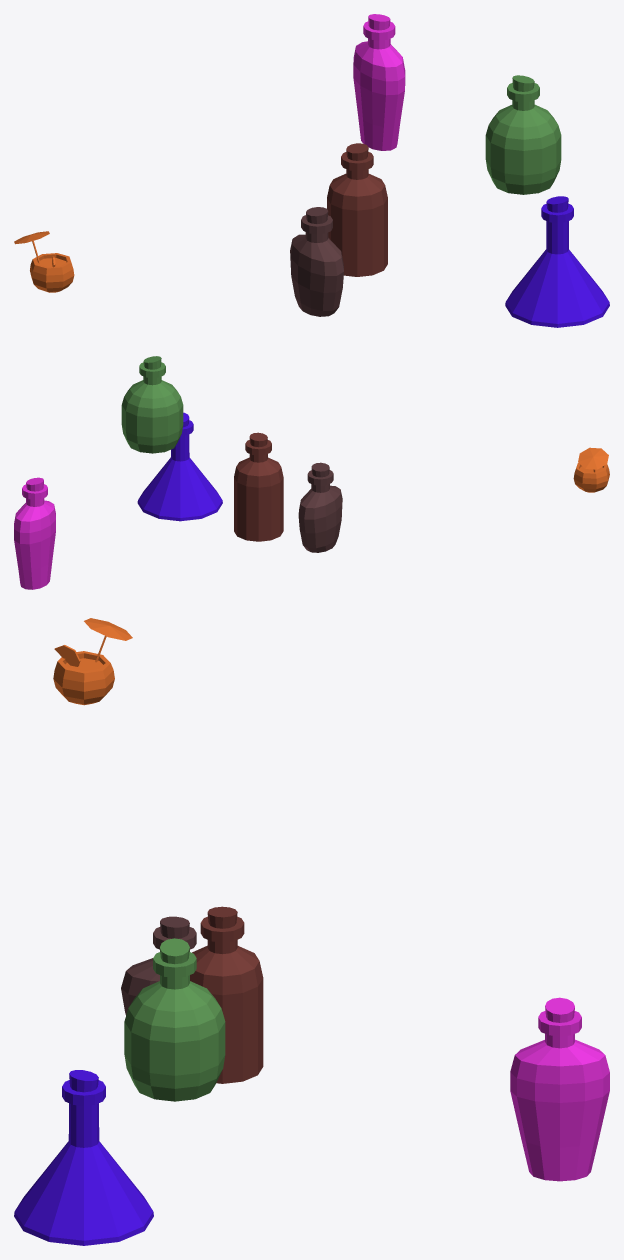
Rendered from Bottles.fbx.
3 views of the same model, one above another, from view 1: azimuth 30°, elevation 25°; view 2: azimuth 150°, elevation 25°; view 3: azimuth 270°, elevation 25° (orthographic). The views are drawn at different scales.
Parts seen in each view (by area): view 1: lab1, small1, medium1, weird1, weird2, coconut; view 2: medium1, small1, lab1, weird1, weird2, coconut; view 3: weird1, lab1, small1, medium1, coconut, weird2.
Boxes of the visible parts, bbox=[...] form: lab1: bbox=[505, 196, 609, 327]; small1: bbox=[485, 75, 561, 194]; medium1: bbox=[327, 143, 387, 276]; weird1: bbox=[353, 14, 405, 150]; weird2: bbox=[290, 207, 343, 316]; coconut: bbox=[14, 231, 74, 292]; medium1: bbox=[234, 432, 283, 541]; small1: bbox=[121, 356, 183, 453]; lab1: bbox=[137, 412, 222, 521]; weird1: bbox=[14, 477, 55, 589]; weird2: bbox=[298, 462, 342, 552]; coconut: bbox=[573, 447, 609, 492]; weird1: bbox=[510, 997, 609, 1181]; lab1: bbox=[14, 1070, 153, 1245]; small1: bbox=[124, 938, 225, 1101]; medium1: bbox=[190, 906, 263, 1083]; coconut: bbox=[53, 618, 132, 705]; weird2: bbox=[121, 916, 196, 1015].
Size of the model in its own units: 603 by 210 by 403.
